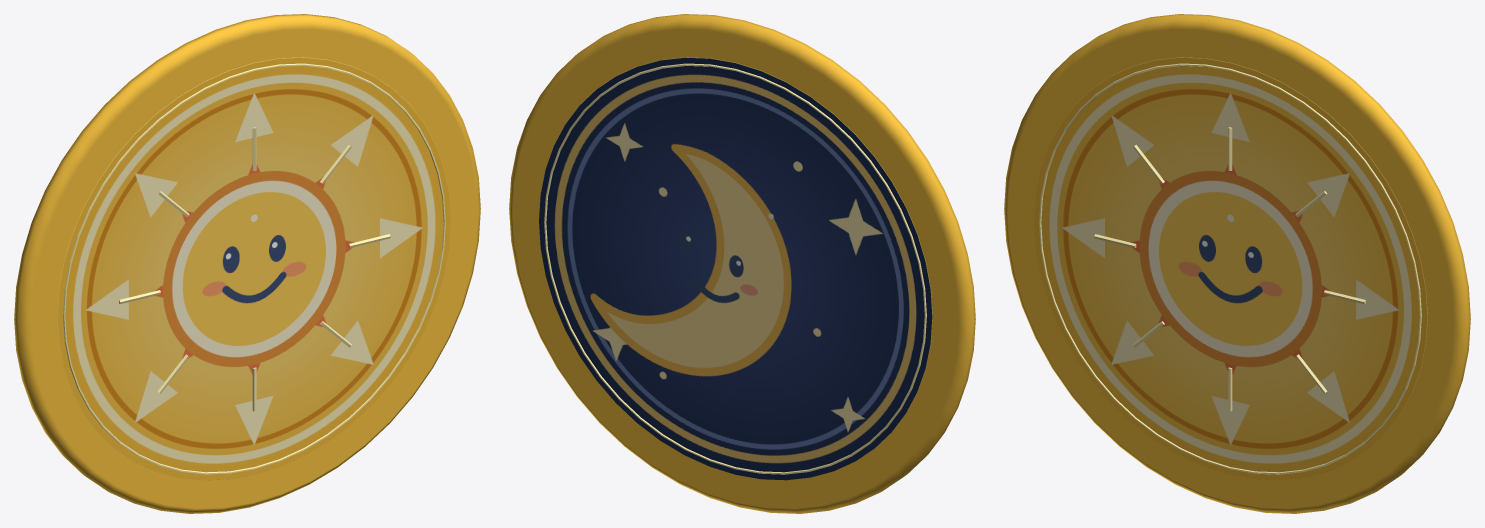
The model's file is asset.glb.
The picture shows the model from 3 angles, left to right: view 1: azimuth 30°, elevation 25°; view 2: azimuth 150°, elevation 25°; view 3: azimuth 330°, elevation 25°; orthographic projection.
Parts seen in each view (by area): view 1: Front enamel inset, Coin body • solid bright gold rim, Raised front coin bezel; view 2: Reverse enamel inset, Coin body • solid bright gold rim, Raised reverse coin bezel; view 3: Front enamel inset, Coin body • solid bright gold rim, Raised front coin bezel.
Boxes of the visible parts, box(x1,y1,x2,y2) form: Front enamel inset: box(57, 57, 450, 480); Coin body • solid bright gold rim: box(14, 14, 480, 513); Raised front coin bezel: box(63, 63, 445, 474); Reverse enamel inset: box(539, 57, 932, 480); Coin body • solid bright gold rim: box(509, 14, 975, 513); Raised reverse coin bezel: box(544, 63, 926, 474); Front enamel inset: box(1034, 57, 1427, 480); Coin body • solid bright gold rim: box(1004, 14, 1470, 513); Raised front coin bezel: box(1039, 63, 1421, 474).
Size of the model in its own units: 0.05 by 0.05 by 0.00293.
Materials: 5 (2 with a texture image).
